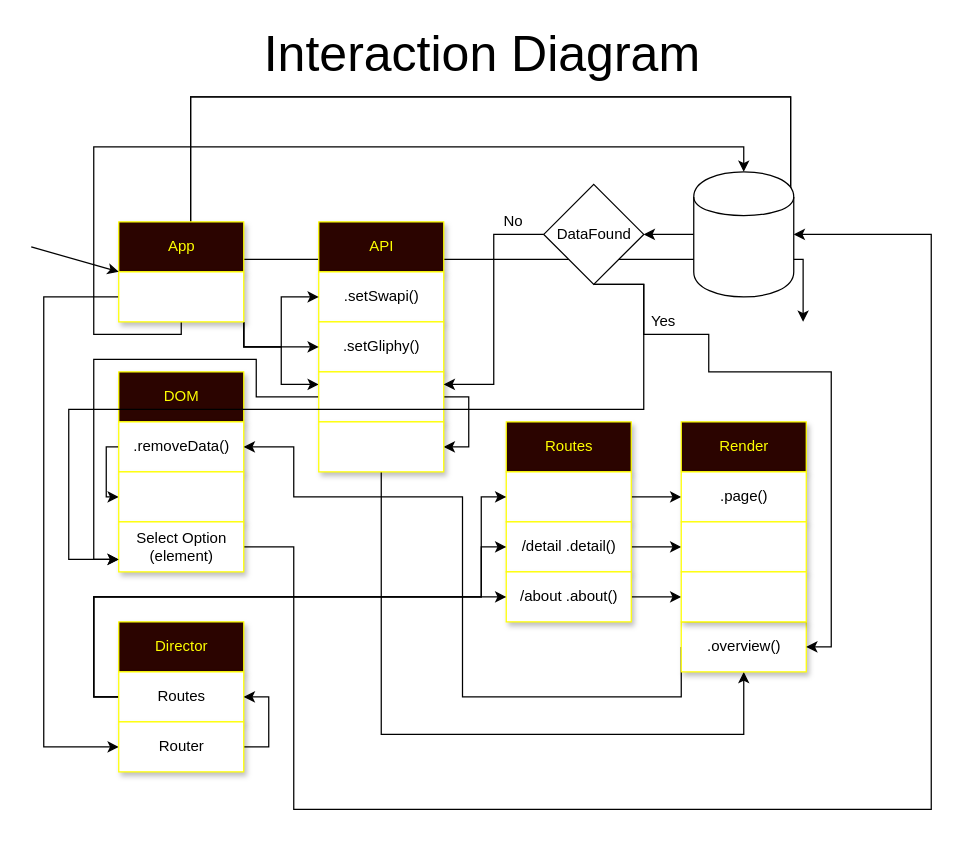
Image size: 963x841. Some labels were removed from this diagram. The centre of each missing label's shape, as x and y in pixels:
".about()" goes at point 744,598.
".details()" goes at point 744,548.
".init()" goes at point 181,298.
".insertData()" goes at point 181,498.
".requestGliphy()" goes at point 381,448.
".requestSwapi()" goes at point 381,398.
"/credit .credit()" goes at point 569,498.
"LocalStorage" goes at point 743,234.
